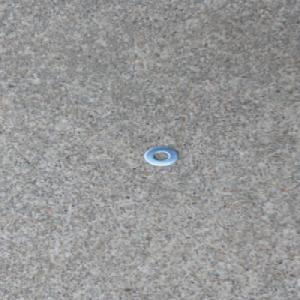Washer: (142, 146, 179, 167)
